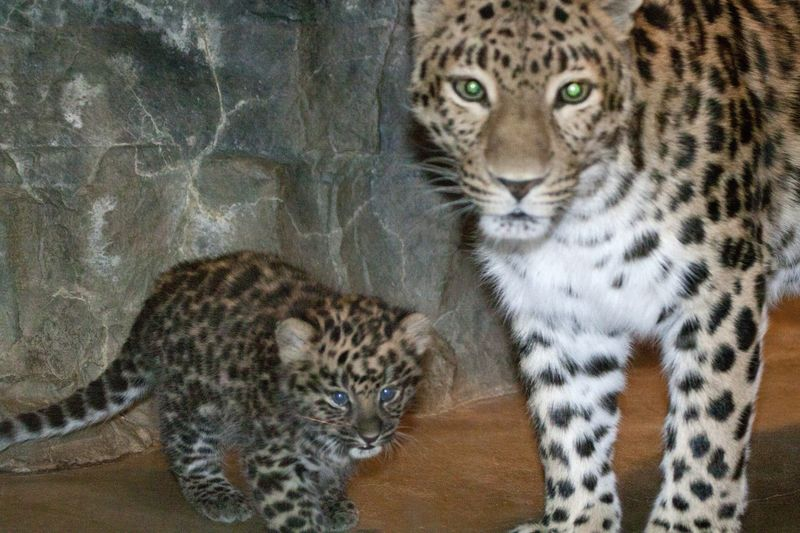amur_leopard: (389, 2, 797, 298), (70, 239, 443, 517)
